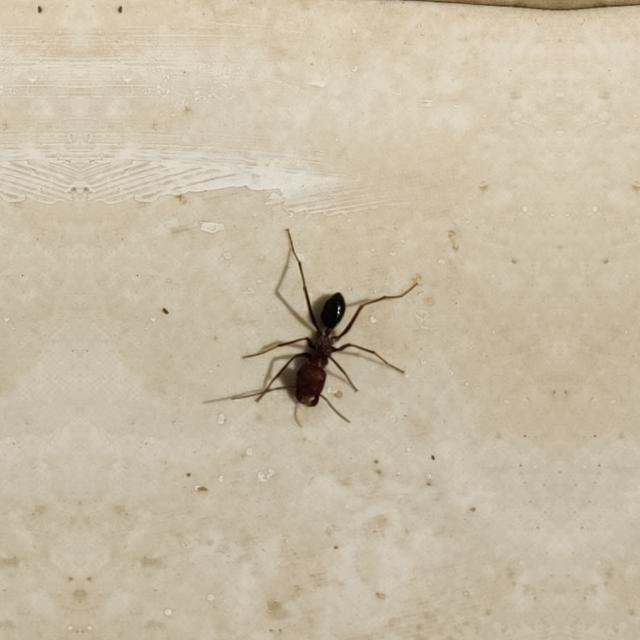Cataglyphis: (257, 264, 375, 428)
